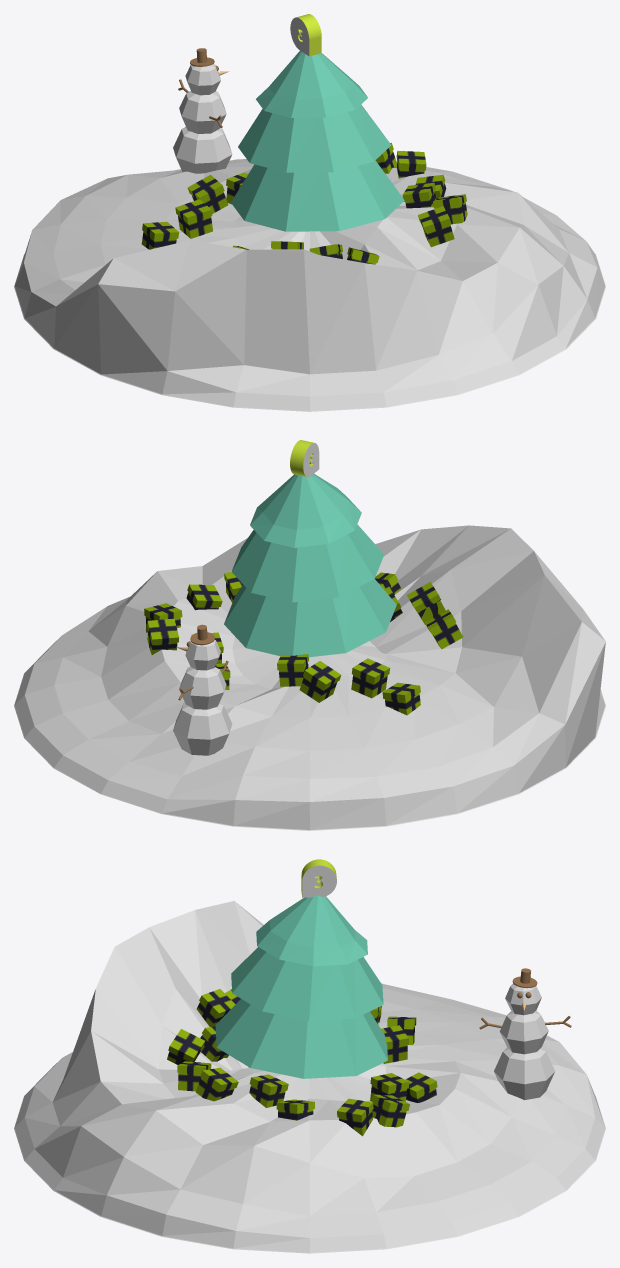
Rendered from wonderland.glb.
3 views of the same model, one above another, from view 1: azimuth 30°, elevation 25°; view 2: azimuth 150°, elevation 25°; view 3: azimuth 270°, elevation 25° (orthographic).
Parts seen in each view (by area): view 1: ground, tree, body_bottom, body_center, gift_12, gift_8, gift_10, head, gift_11, gift_7, gift_13, gift_5 (+1 smaller); view 2: ground, tree, body_bottom, body_center, gift_12, gift_10, gift_14, gift_11, gift_1, gift_2, gift_9, head (+3 smaller); view 3: ground, tree, body_bottom, body_center, gift_5, gift_14, gift_7, gift_13, front, gift_1, gift_4, gift_16 (+6 smaller).
Boxes of the visible parts, box(x1,y1,x2,y2) form: ground: box(14, 159, 605, 411); tree: box(231, 50, 404, 231); body_bottom: box(173, 127, 232, 173); body_center: box(179, 91, 226, 133); gift_12: box(175, 199, 212, 238); gift_8: box(418, 206, 454, 247); gift_10: box(187, 175, 228, 213); head: box(185, 63, 220, 95); gift_11: box(141, 221, 179, 249); gift_7: box(402, 182, 436, 208); gift_13: box(396, 150, 426, 178); gift_5: box(433, 194, 467, 224); ground: box(14, 525, 605, 830); tree: box(224, 474, 396, 657); body_bottom: box(173, 702, 232, 755); body_center: box(179, 666, 226, 709); gift_12: box(351, 658, 390, 698); gift_10: box(299, 661, 341, 702); gift_14: box(147, 618, 179, 654); gift_11: box(382, 682, 420, 715); gift_1: box(407, 582, 445, 624); gift_2: box(424, 609, 463, 649); gift_9: box(277, 654, 308, 686); head: box(185, 640, 220, 670); ground: box(14, 901, 605, 1253); tree: box(215, 895, 387, 1078); body_bottom: box(494, 1047, 555, 1100); body_center: box(499, 1010, 548, 1054); gift_5: box(195, 1067, 238, 1101); gift_14: box(371, 1094, 409, 1127); gift_7: box(249, 1074, 288, 1107); gift_13: box(337, 1098, 373, 1136); front: box(302, 865, 336, 897); gift_1: box(196, 989, 235, 1026); gift_4: box(167, 1029, 204, 1064); gift_16: box(370, 1073, 409, 1101).
Bounding box in the file's own units: 1.92 × 0.9555 × 1.92.
8 materials, 1 textured.
